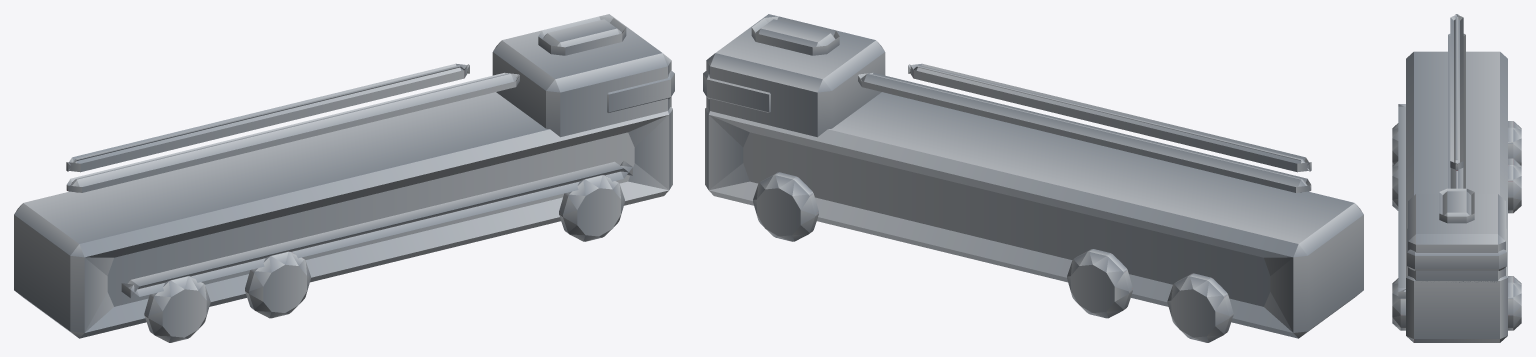
Rendered from dt_fire_engine.fbx.
3 renders of one model, left to right at view 1: azimuth 30°, elevation 25°; view 2: azimuth 150°, elevation 25°; view 3: azimuth 270°, elevation 25°, orthographic. The views are drawn at different scales.
Parts seen in each view (by area): view 1: dt_fire_engine; view 2: dt_fire_engine; view 3: dt_fire_engine.
Part boxes in pixels (x1,y1,x2,y2): dt_fire_engine: [14, 14, 674, 342]; dt_fire_engine: [703, 14, 1363, 342]; dt_fire_engine: [1392, 14, 1521, 342].
Bounding box in the file's own units: 2400 × 666 × 578.
